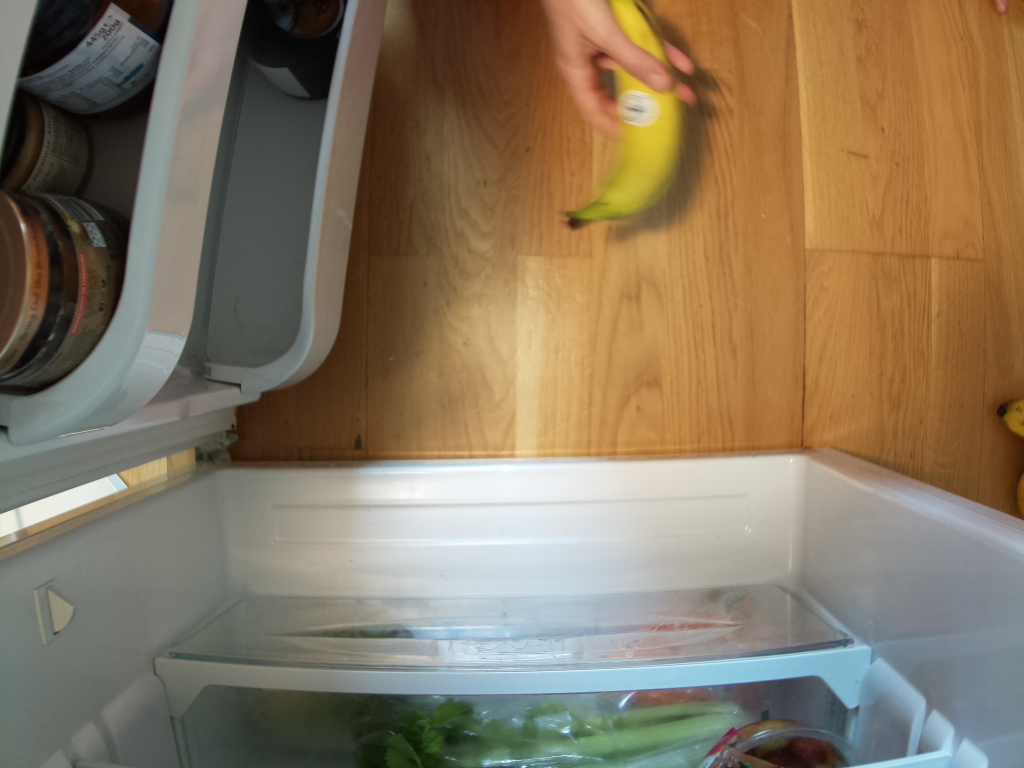banana-unripe: (563, 1, 689, 238)
